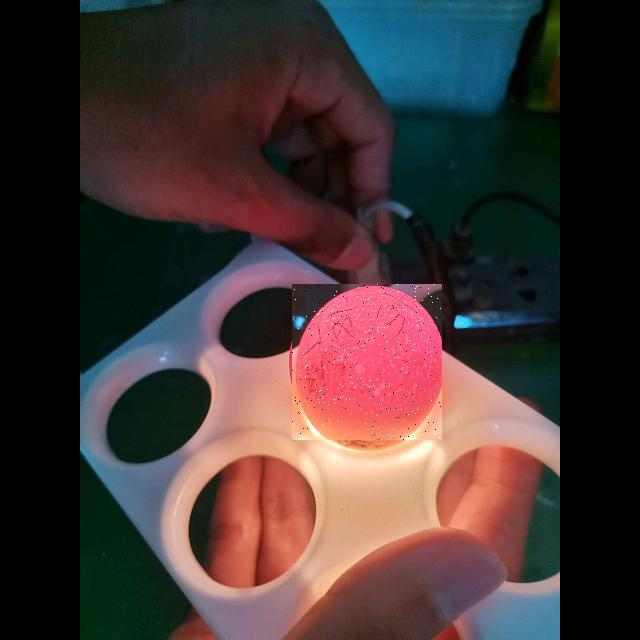Infertile: (292, 284, 442, 440)
